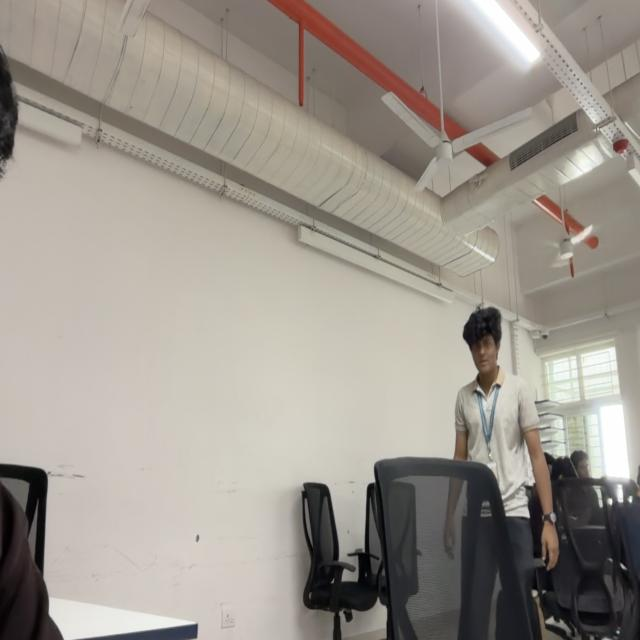kshitij: (463, 306, 503, 377)
